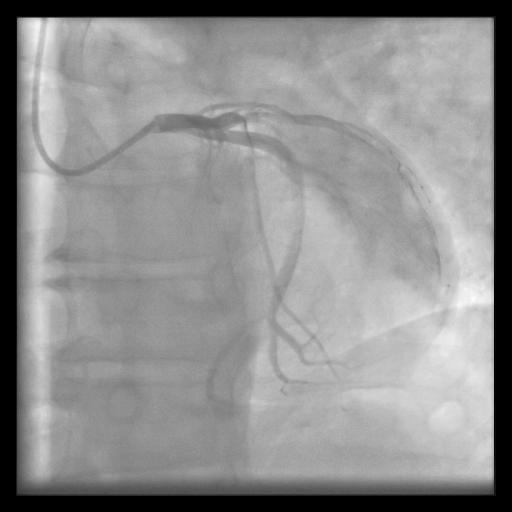Stenosis: (240, 123, 257, 158)
